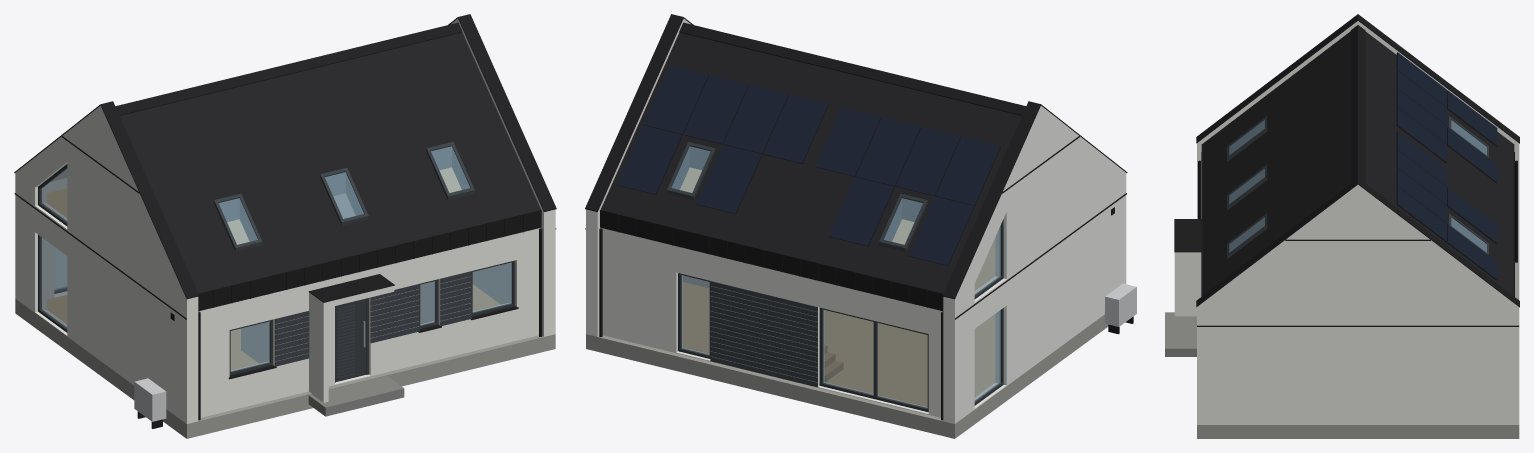
File: dom_smart_comfort_antracyt.glb
The picture shows the model from 3 angles, left to right: view 1: azimuth 30°, elevation 25°; view 2: azimuth 150°, elevation 25°; view 3: azimuth 270°, elevation 25°; orthographic projection. The views are drawn at different scales.
Parts seen in each view (by area): view 1: Dach – połać frontowa, Ściana szczytowa lewa, Ściana frontowa, Płyta fundamentowa, Pas okapowy frontowy, Deska elewacyjna – front, O1 <O1 okno 130x130>, Gąsior, Ściana szczytowa prawa, Opierzenie ściany szczytowej lewej, Opierzenie ściany szczytowej prawej, DZ <DZ drzwi zewnętrzne 90x210> (+17 smaller); view 2: Dach – połać ogrodowa, Instalacja fotowoltaiczna, Ściana szczytowa lewa, Ściana ogrodowa, Posadzka parteru, Płyta fundamentowa, Deska elewacyjna – ogród, Ot1 <Ot1 okno przesuwne HS 320x220>, Pas okapowy ogrodowy, Gąsior, Opierzenie ściany szczytowej lewej, Opierzenie ściany szczytowej prawej (+8 smaller); view 3: Ściana szczytowa prawa, Dach – połać frontowa, Instalacja fotowoltaiczna, Dach – połać ogrodowa, Płyta fundamentowa, Gąsior, Opierzenie ściany szczytowej prawej, Opierzenie ściany szczytowej lewej, Ściana szczytowa lewa, Zadaszenie – ścianka boczna, Podest wejściowy, Zadaszenie – obróbka (+6 smaller).
Boxes of the visible parts, box(x1,y1,x2,y2) form: Dach – połać frontowa: box(120, 32, 540, 293); Ściana szczytowa lewa: box(15, 106, 198, 423); Ściana frontowa: box(198, 228, 540, 417); Płyta fundamentowa: box(15, 286, 555, 438); Pas okapowy frontowy: box(198, 210, 541, 311); Deska elewacyjna – front: box(275, 271, 471, 366); O1 <O1 okno 130x130>: box(229, 260, 515, 375); Gąsior: box(115, 22, 462, 115); Ściana szczytowa prawa: box(451, 18, 555, 336); Opierzenie ściany szczytowej lewej: box(14, 101, 199, 299); Opierzenie ściany szczytowej prawej: box(448, 14, 556, 211); DZ <DZ drzwi zewnętrzne 90x210>: box(335, 298, 368, 382); Dach – połać ogrodowa: box(600, 32, 1021, 293); Instalacja fotowoltaiczna: box(616, 65, 1000, 265); Ściana szczytowa lewa: box(943, 106, 1126, 423); Ściana ogrodowa: box(601, 228, 942, 417); Posadzka parteru: box(683, 282, 994, 406); Płyta fundamentowa: box(586, 314, 1108, 438); Deska elewacyjna – ogród: box(710, 281, 817, 387); Ot1 <Ot1 okno przesuwne HS 320x220>: box(819, 307, 928, 412); Pas okapowy ogrodowy: box(600, 210, 943, 311); Gąsior: box(679, 22, 1025, 115); Opierzenie ściany szczytowej lewej: box(942, 101, 1127, 299); Opierzenie ściany szczytowej prawej: box(585, 14, 693, 211); Ściana szczytowa prawa: box(1197, 185, 1519, 424); Dach – połać frontowa: box(1202, 31, 1350, 295); Instalacja fotowoltaiczna: box(1396, 52, 1497, 280); Dach – połać ogrodowa: box(1365, 32, 1513, 295); Płyta fundamentowa: box(1197, 261, 1519, 438); Gąsior: box(1350, 25, 1365, 183); Opierzenie ściany szczytowej prawej: box(1196, 178, 1519, 307); Opierzenie ściany szczytowej lewej: box(1196, 14, 1519, 143); Ściana szczytowa lewa: box(1197, 21, 1519, 261); Zadaszenie – ścianka boczna: box(1174, 258, 1201, 316); Podest wejściowy: box(1165, 312, 1196, 356); Zadaszenie – obróbka: box(1174, 219, 1201, 252).
Size of what is drawn, in the model's own units: 11.34 by 7.52 by 9.46.
